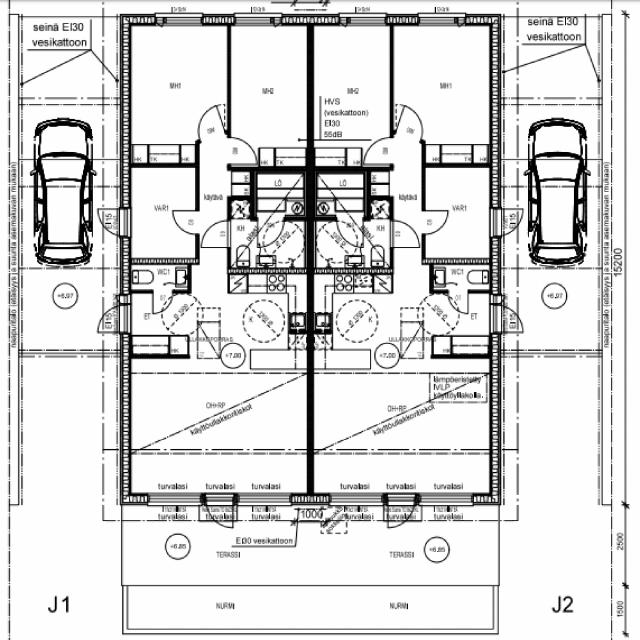door: (394, 104, 430, 143), (191, 105, 225, 143), (92, 208, 130, 237), (92, 305, 131, 333), (489, 305, 528, 332), (387, 493, 414, 532), (205, 493, 232, 532), (490, 209, 527, 235), (336, 215, 363, 248), (258, 215, 284, 248), (390, 220, 419, 247), (364, 138, 394, 164), (202, 222, 231, 248), (227, 138, 256, 164), (422, 211, 449, 234), (173, 212, 199, 234), (152, 290, 172, 314), (448, 290, 468, 314), (490, 294, 511, 305), (110, 295, 131, 305)
